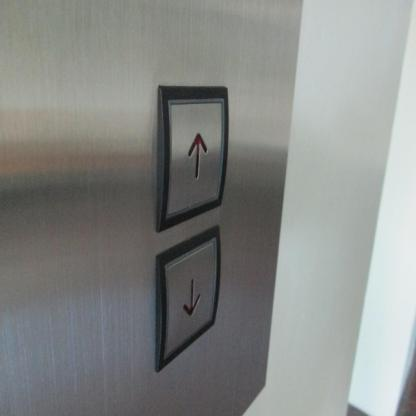down: (153, 222, 222, 375)
up: (153, 81, 230, 235)
